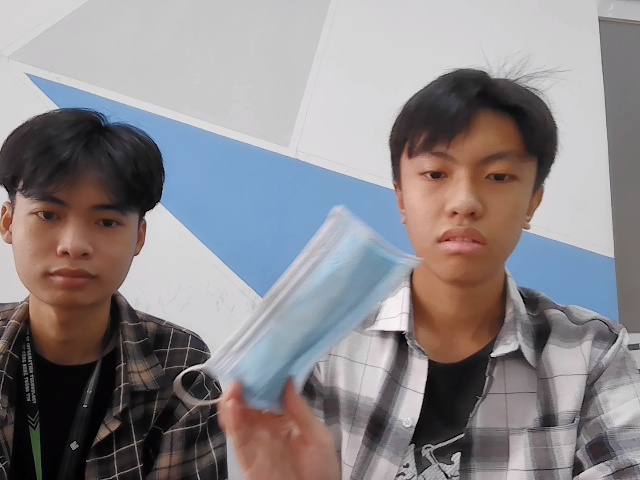human: (388, 67, 551, 277), (7, 103, 156, 314)
mask: (199, 194, 408, 442)
